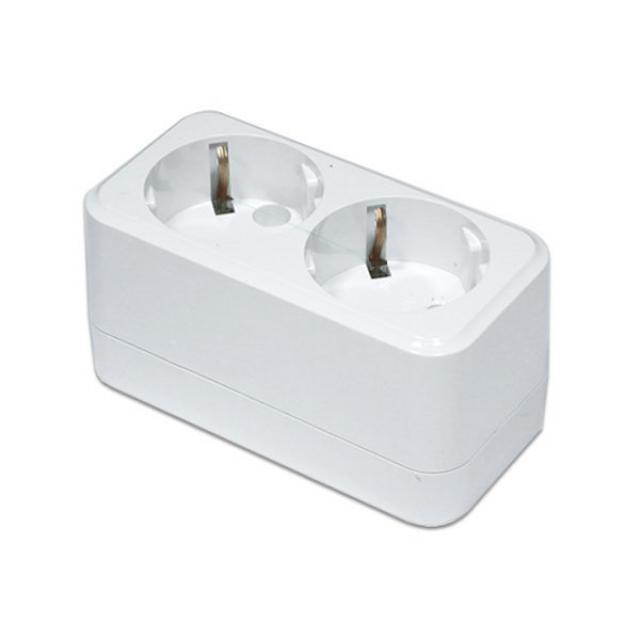typeb: (110, 80, 512, 410)
